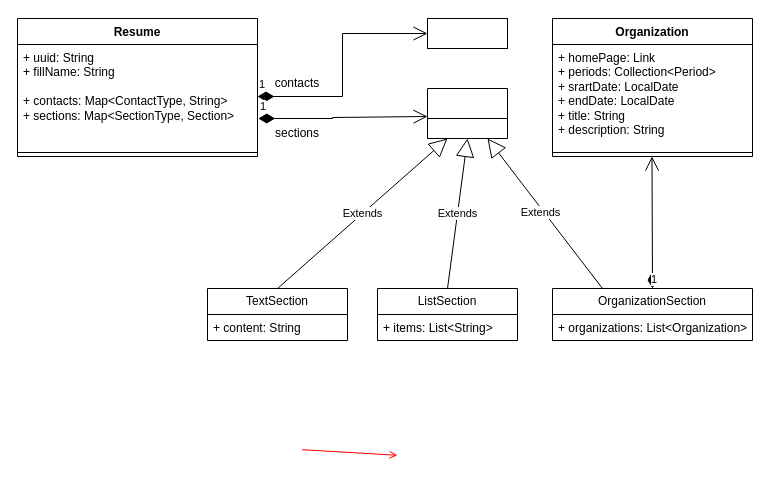
This 770x481 diagram has some shape labels left out. Each missing label, with the centre of its shape:
Section: (x=467, y=113)
String: (x=467, y=33)
